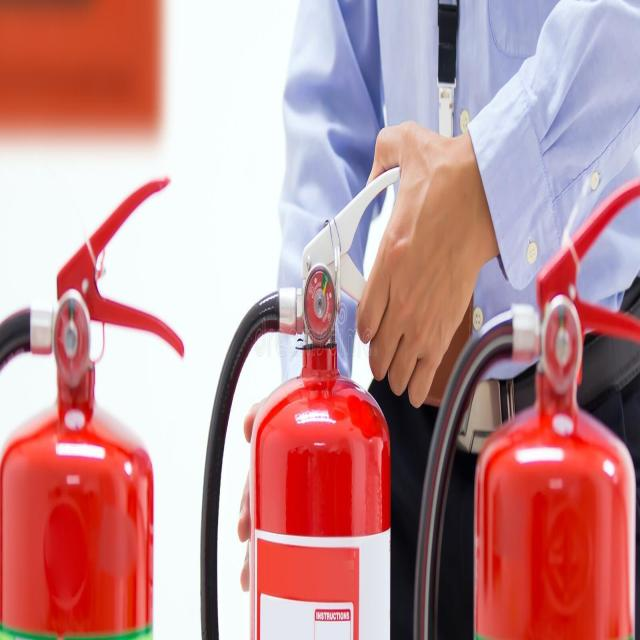fire_extinguisher: (403, 171, 640, 639), (196, 160, 424, 639), (0, 171, 188, 639)
